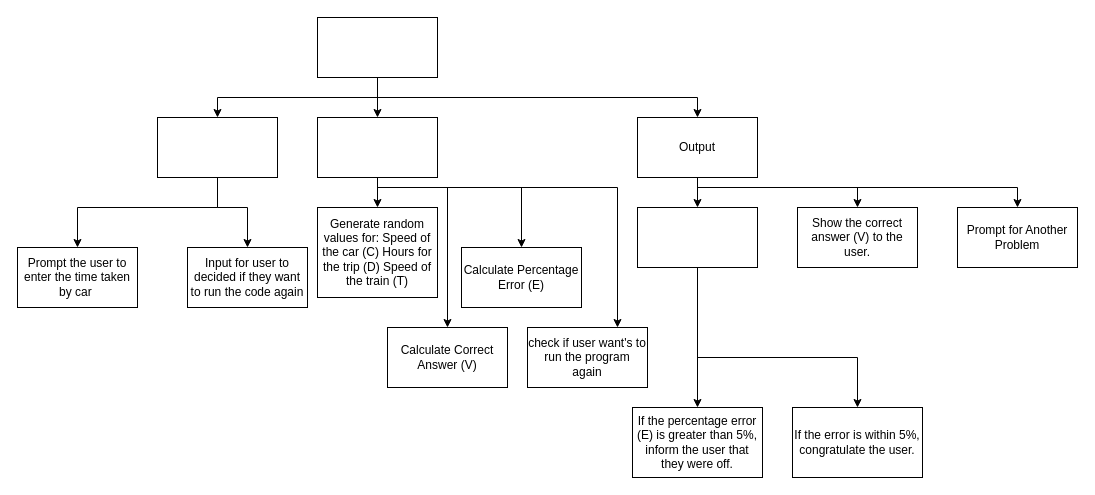
Some shapes in this 1095 by 495 pixel diagram are drawn without their labels. Each missing label, with the centre of its shape:
"Check how much energy an object can release" goes at [377,47].
"display Feedback" goes at [697,237].
"Input" goes at [217,147].
"Process" goes at [377,147].
